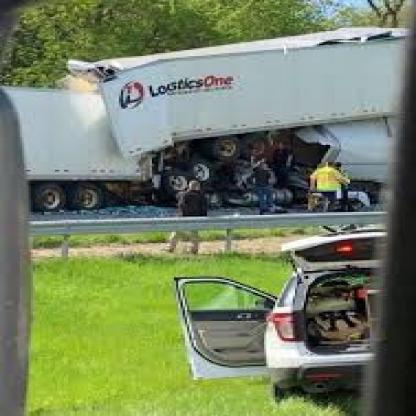accident: (58, 23, 416, 170)
